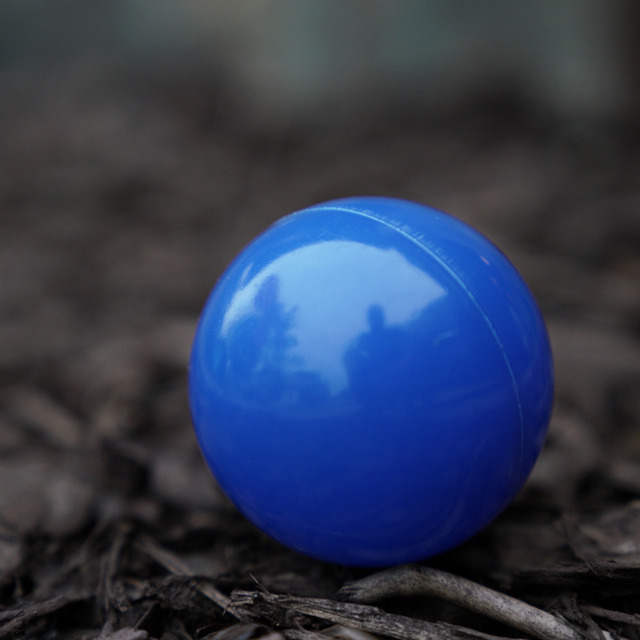Ball: (192, 194, 555, 569)
